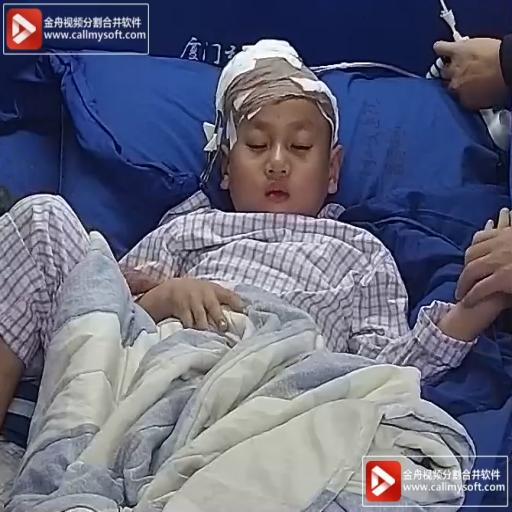Seizure: (215, 61, 350, 216)
